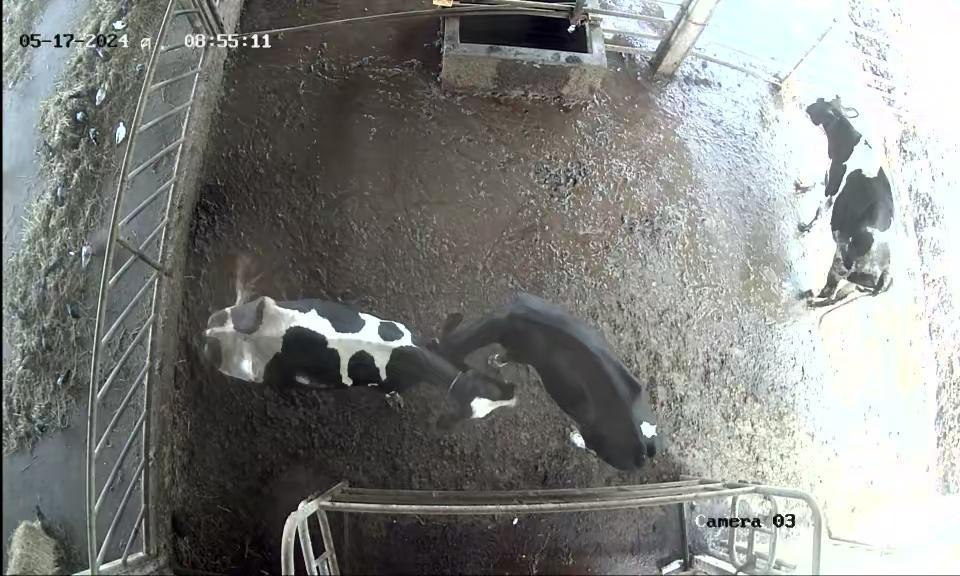stand: (420, 270, 685, 472), (204, 285, 512, 440), (774, 77, 917, 338)
